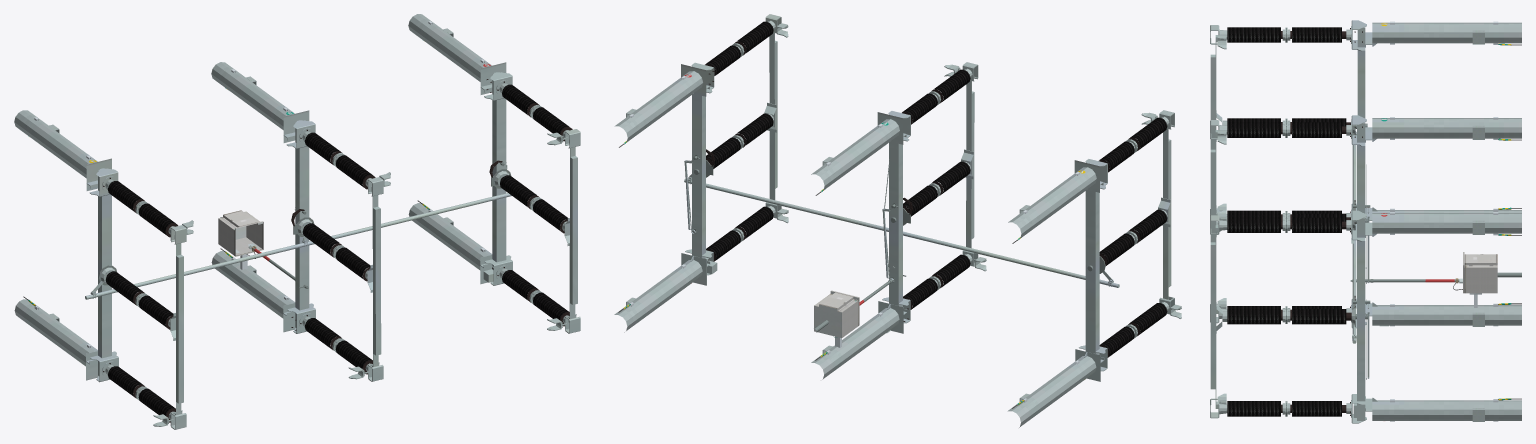
File: glkg-11m00000000620290-geode.glb
3 renders of one model, left to right at view 1: azimuth 30°, elevation 25°; view 2: azimuth 150°, elevation 25°; view 3: azimuth 270°, elevation 25°, orthographic.
Visible parts, largest first — view 1: Node; view 2: Node; view 3: Node.
Boxes of the visible parts, x1,y1,x2,y2 form: Node: (14,14,580,429); Node: (614,14,1181,427); Node: (1210,20,1521,423).
Size of the model in its own units: 7.69 by 3.65 by 4.83.
Materials: 20 (20 with a texture image).
